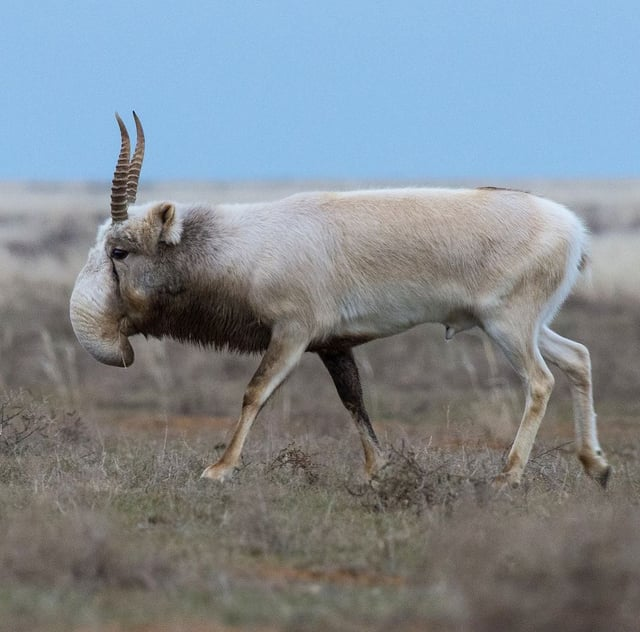saiga: (63, 107, 619, 495)
